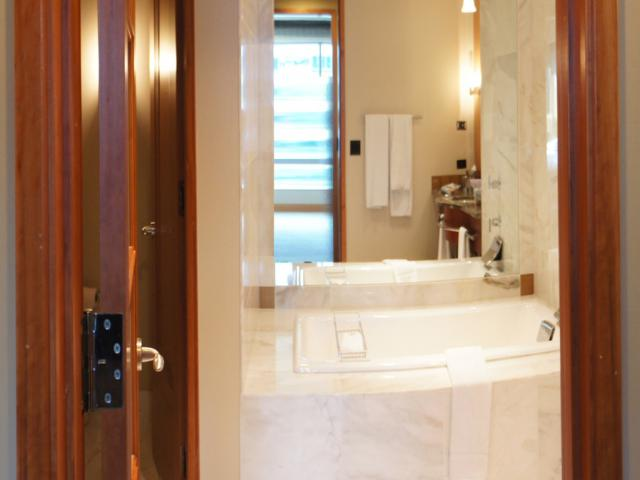Door-handle: (138, 339, 164, 371)
